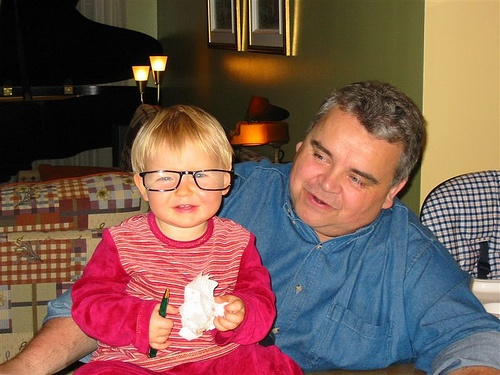head: (293, 79, 413, 238), (134, 103, 233, 228)
person: (204, 78, 500, 375), (26, 107, 310, 372)
